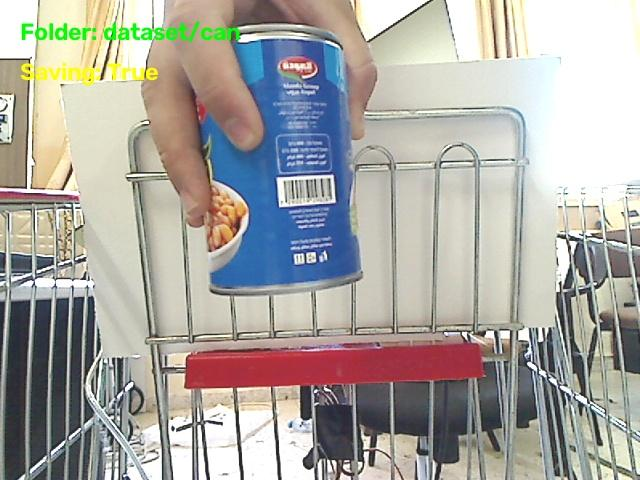can: (198, 24, 361, 294)
